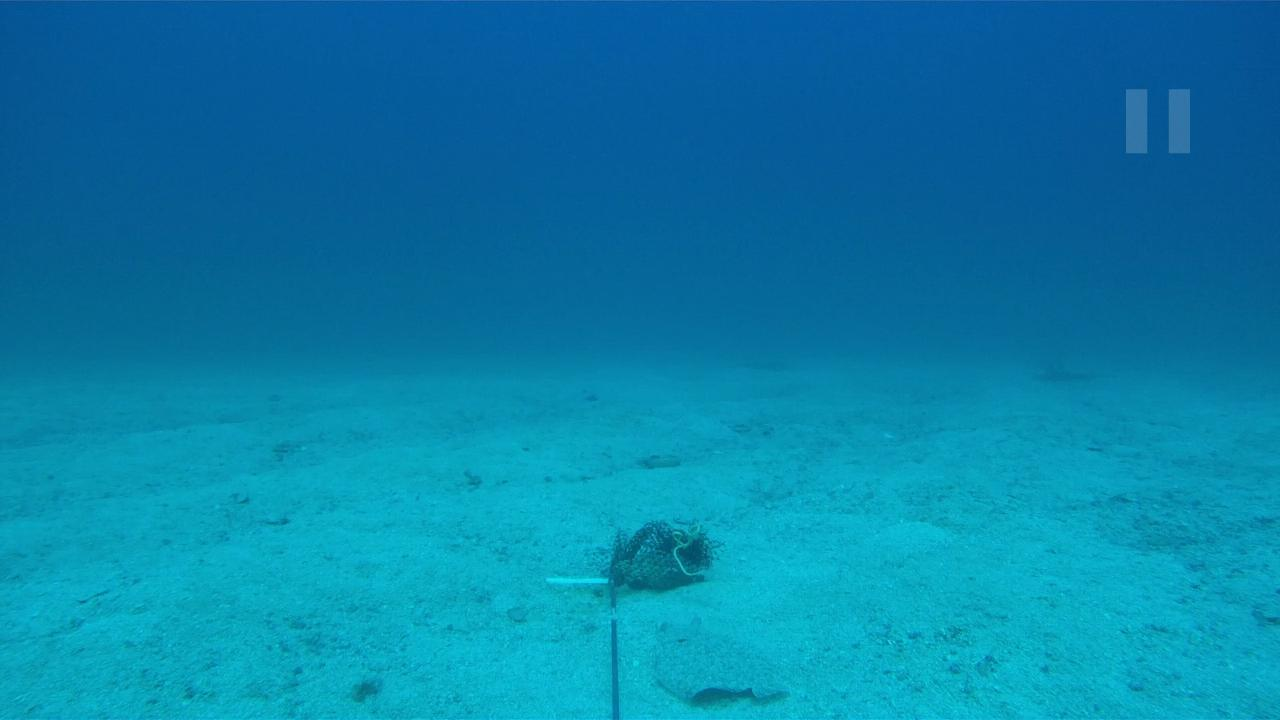bothus: (650, 617, 790, 708)
